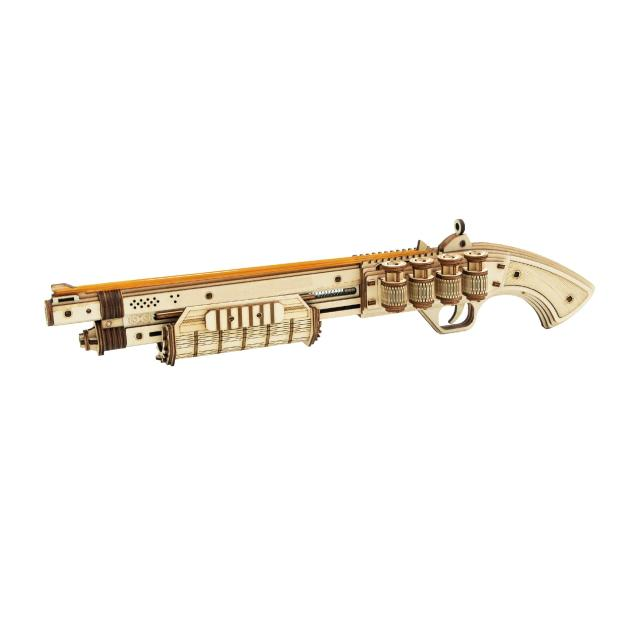ShotGun: (43, 220, 598, 367)
